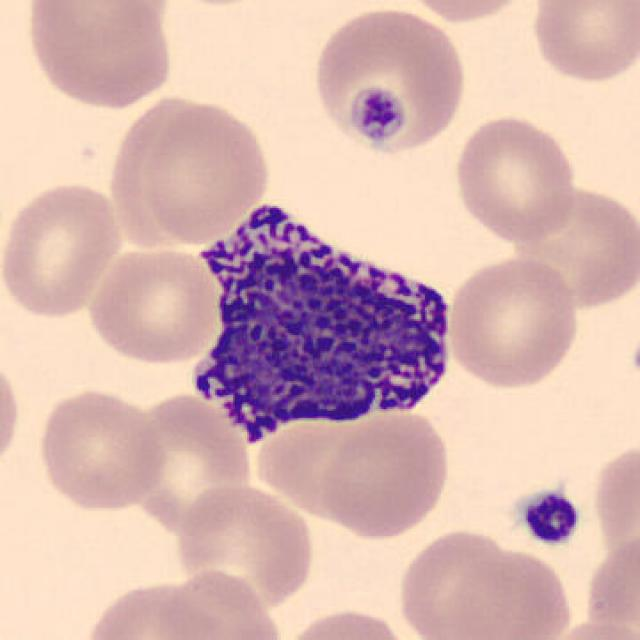Basophil: (181, 193, 464, 452)
Platelets: (338, 50, 428, 146), (514, 487, 585, 548), (348, 85, 409, 146)
RBC: (308, 3, 471, 157), (137, 97, 274, 247), (443, 252, 583, 392), (172, 480, 318, 610), (316, 406, 454, 542), (0, 176, 124, 320), (34, 384, 169, 515), (450, 111, 580, 247), (19, 0, 178, 111), (84, 243, 224, 367), (396, 527, 546, 640), (507, 184, 640, 307), (153, 566, 286, 640), (526, 0, 638, 86), (78, 576, 222, 640), (23, 0, 176, 49), (595, 439, 640, 592), (580, 529, 638, 636), (279, 604, 416, 640), (398, 0, 538, 26), (0, 349, 25, 478), (542, 615, 638, 640)
